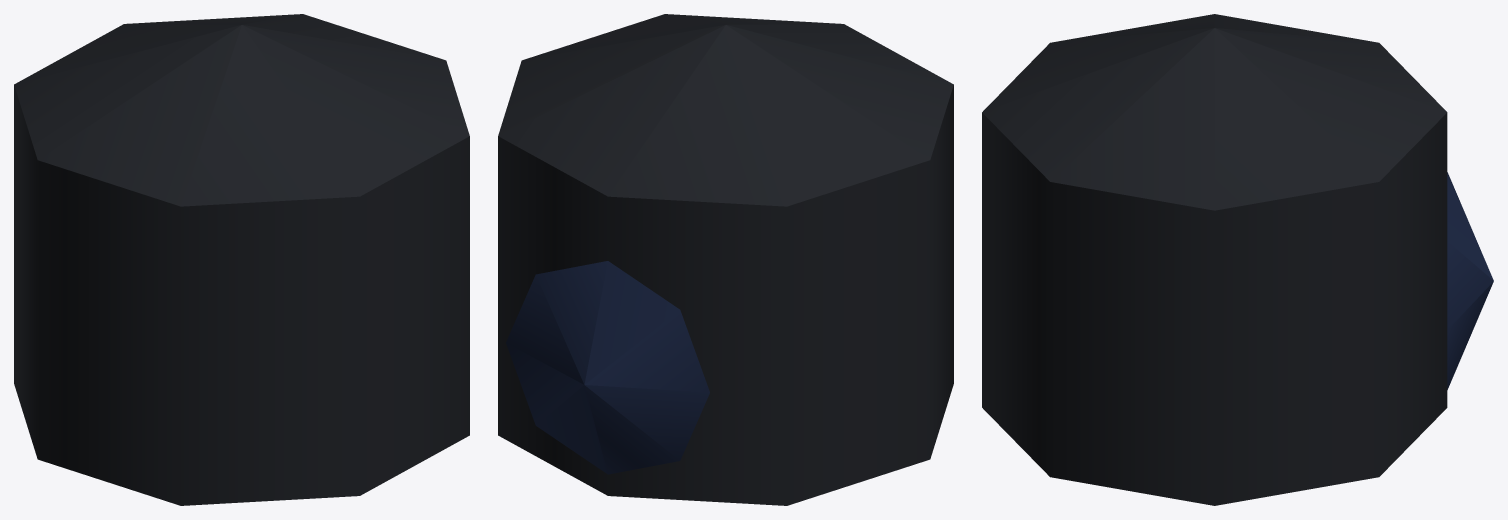
Rendered from klegg_camera.obj.
The picture shows the model from 3 angles, left to right: view 1: azimuth 30°, elevation 25°; view 2: azimuth 150°, elevation 25°; view 3: azimuth 270°, elevation 25°; orthographic projection.
Visible parts, largest first — view 1: klegg_camera; view 2: klegg_camera; view 3: klegg_camera.
Part boxes in pixels (x1=…): klegg_camera: x1=14, y1=14, x2=469, y2=505; klegg_camera: x1=498, y1=14, x2=953, y2=505; klegg_camera: x1=982, y1=14, x2=1493, y2=505.
Bounding box in the file's own units: 0.1 × 0.1 × 0.11.
